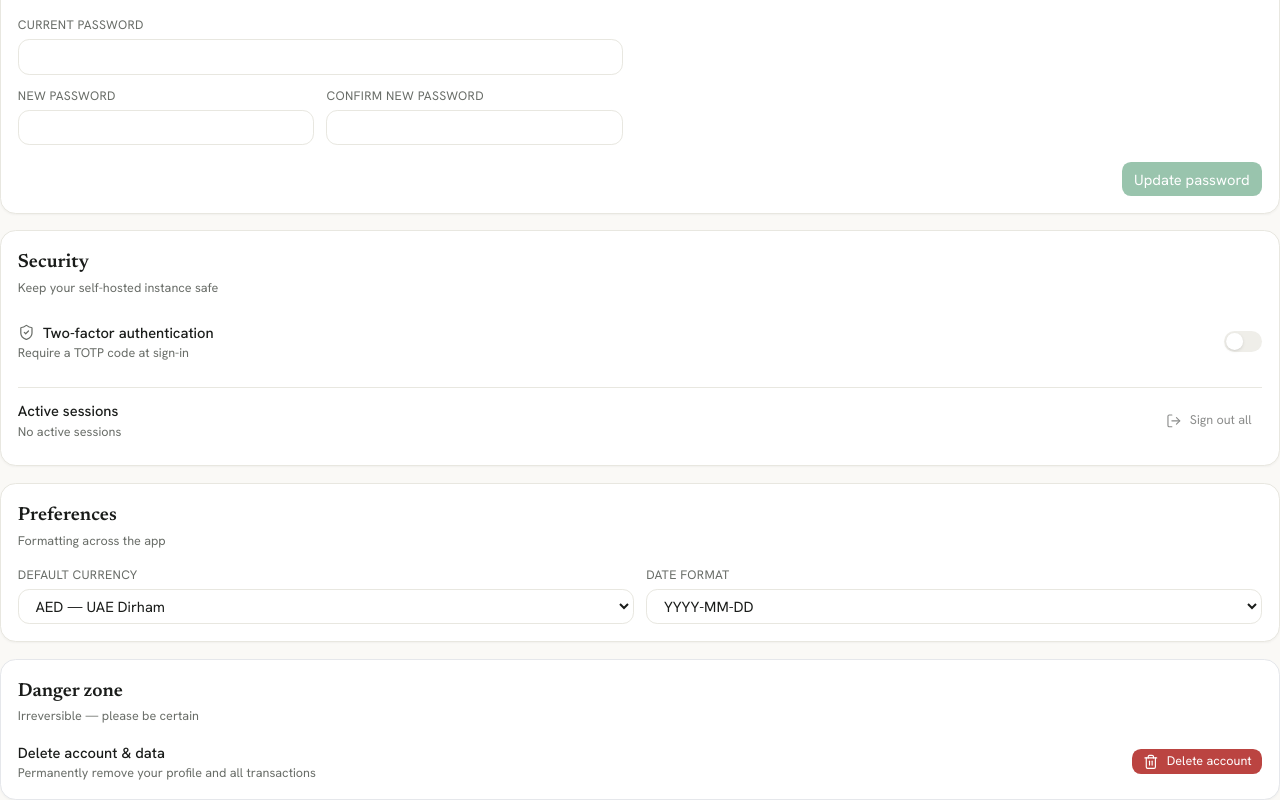
Test case: AccountTab — delete account modal › requires typing exact username to enable submit
(page scrolled)
Note: Open the modal
Click the button "Delete account" at (1197, 762), box [1132,749,1262,774]
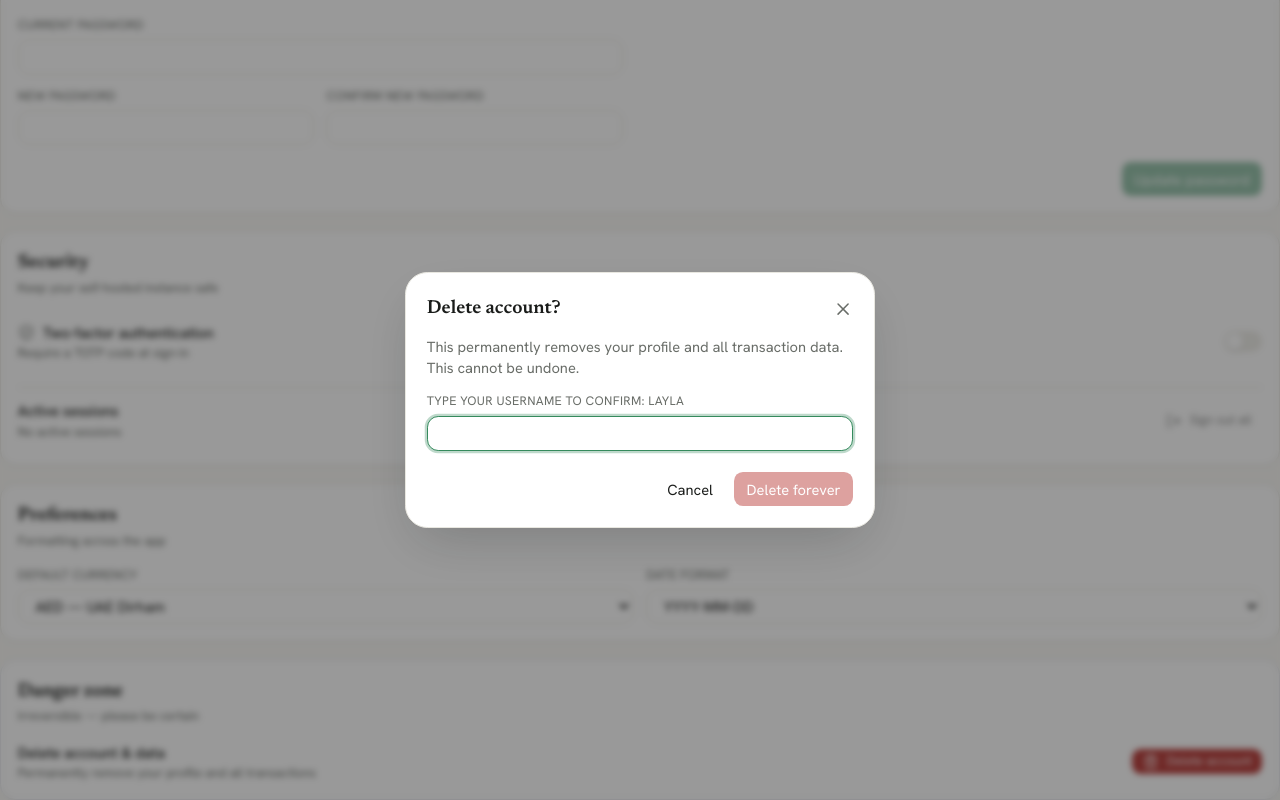
Expected: the button with test id "confirm-delete-account" is disabled, [734,472,853,506]
Type "wrong" into the field with test id "delete-username-input" at (640, 434), box [427,416,853,451]
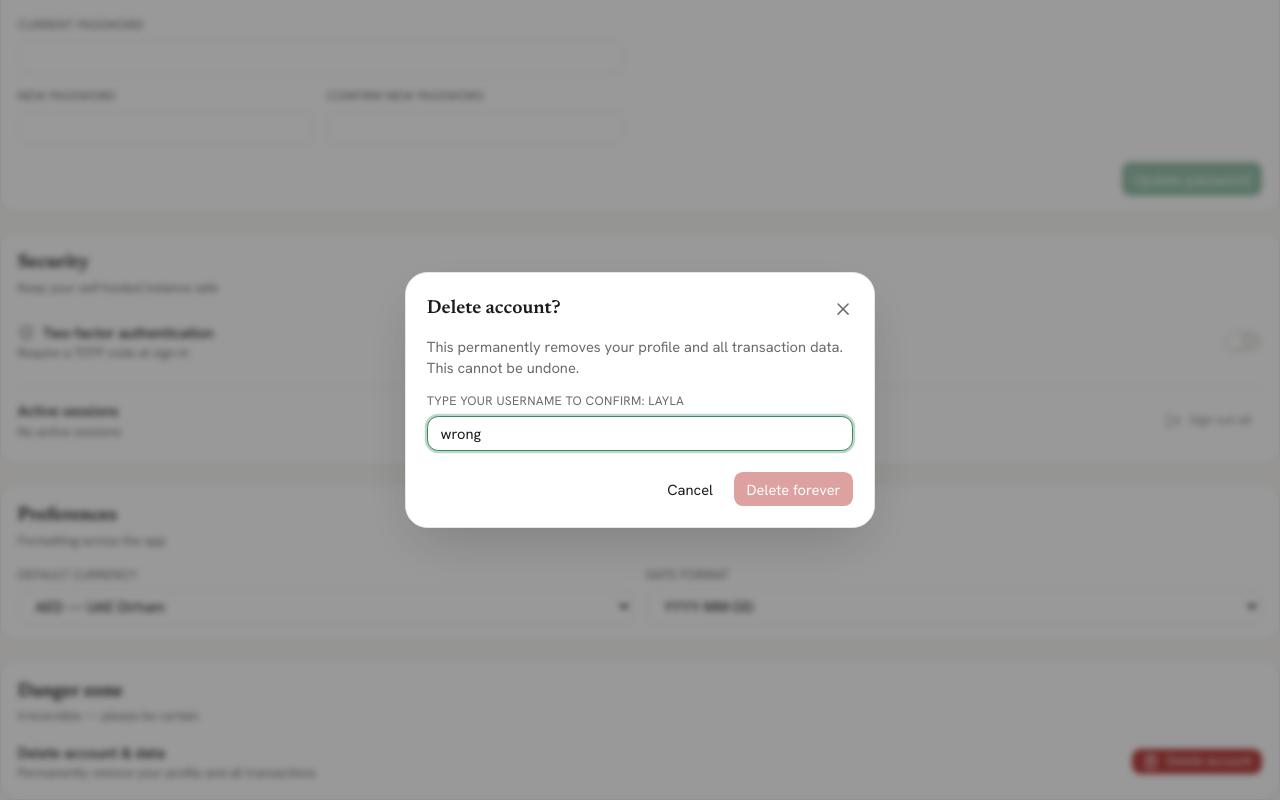
Expected: the button with test id "confirm-delete-account" is disabled, [734,472,853,506]
Replace the text in the field with test id "delete-username-input" with "layla" at (640, 434), box [427,416,853,451]
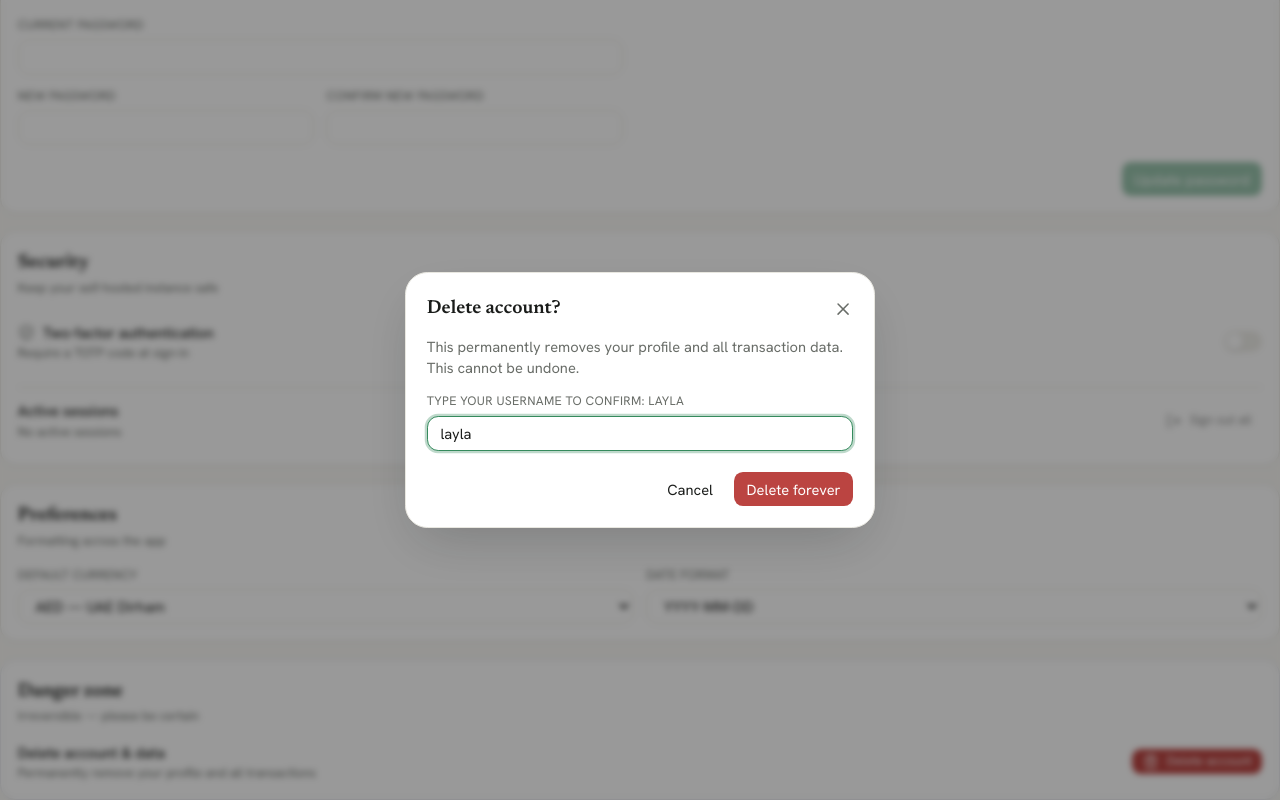
Expected: the button with test id "confirm-delete-account" is enabled, [734,472,853,506]
